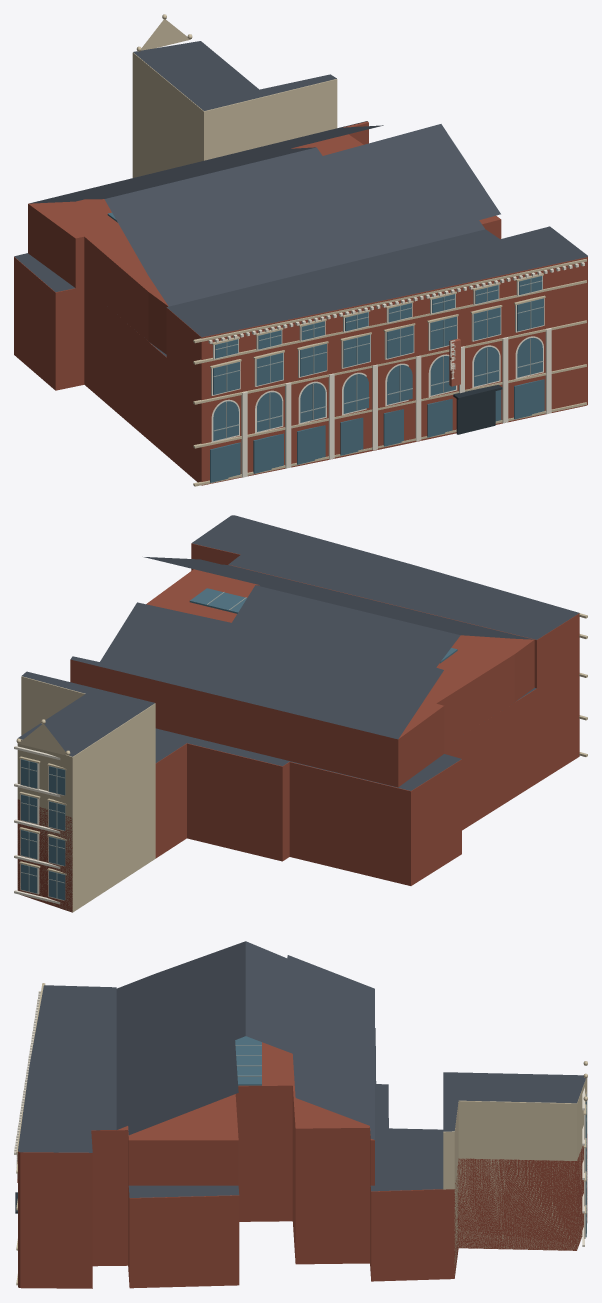
File: frascati.glb
3 renders of one model, top to bottom at view 1: azimuth 30°, elevation 25°; view 2: azimuth 150°, elevation 25°; view 3: azimuth 270°, elevation 25°, orthographic. The views are drawn at different scales.
Parts seen in each view (by area): view 1: frascati; view 2: frascati; view 3: frascati.
Boxes of the visible parts, left/top/right/bottom form: frascati: left=14, top=14, right=587, bottom=486; frascati: left=14, top=515, right=587, bottom=912; frascati: left=14, top=941, right=587, bottom=1288.
Size of the model in its own units: 38.84 by 19.45 by 54.44.
